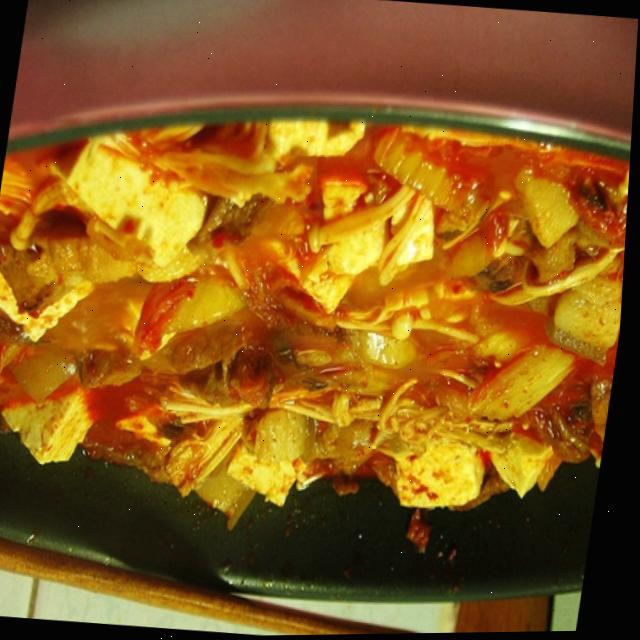汤锅炖物: (0, 46, 638, 640)
